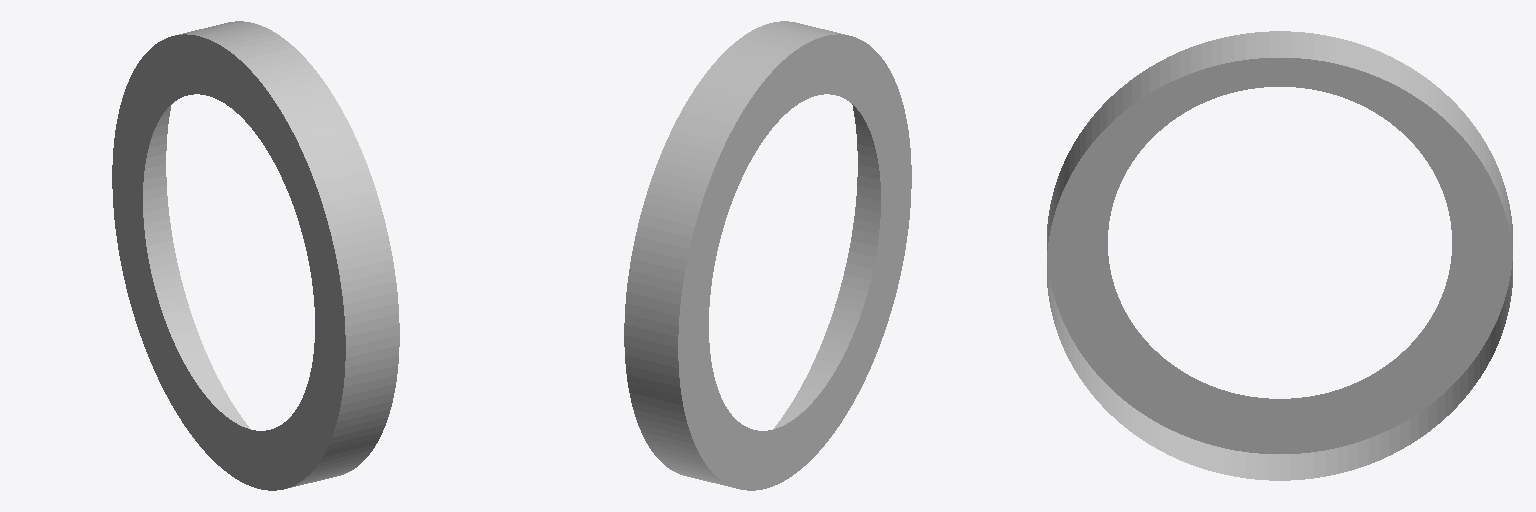
File: geo-e07a683e-85d2-4bf5-89cf-79aed247a230.obj
3 renders of one model, left to right at view 1: azimuth 30°, elevation 25°; view 2: azimuth 150°, elevation 25°; view 3: azimuth 270°, elevation 25°, orthographic.
Visible parts, largest first — view 1: 0; view 2: 0; view 3: 0.
Boxes of the visible parts, <box> form: 0: <box>112,21,399,490</box>; 0: <box>624,21,911,490</box>; 0: <box>1047,31,1512,480</box>.
Size of the model in its own units: 18.1 by 136 by 136.